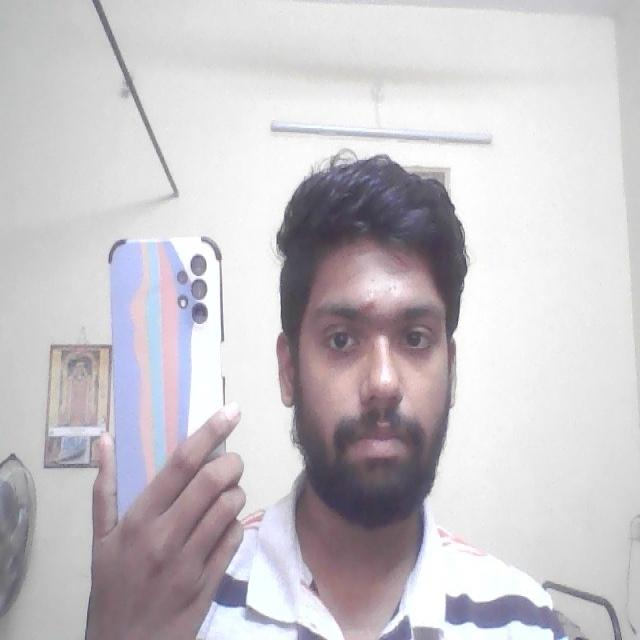Mobile: (100, 226, 230, 432)
